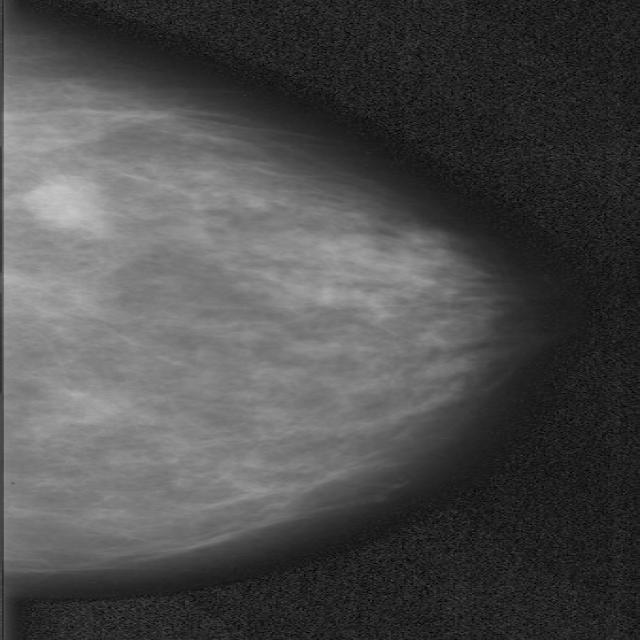tumour: (22, 173, 108, 238)
